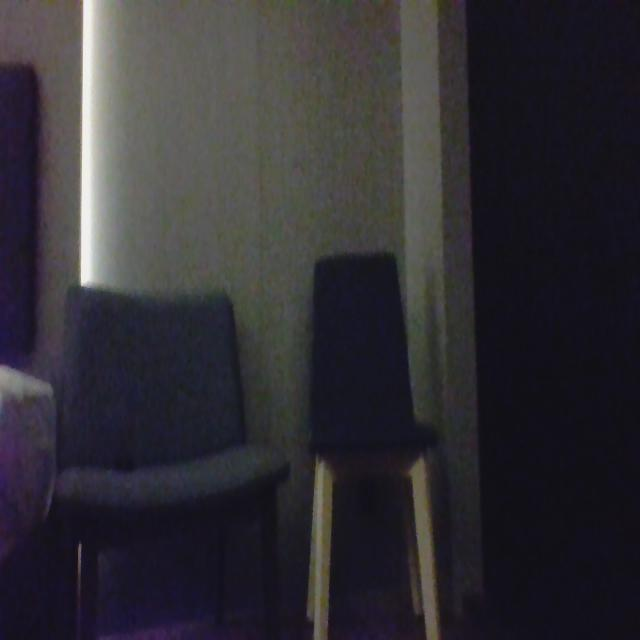empty: (52, 272, 246, 480), (306, 248, 426, 480)
